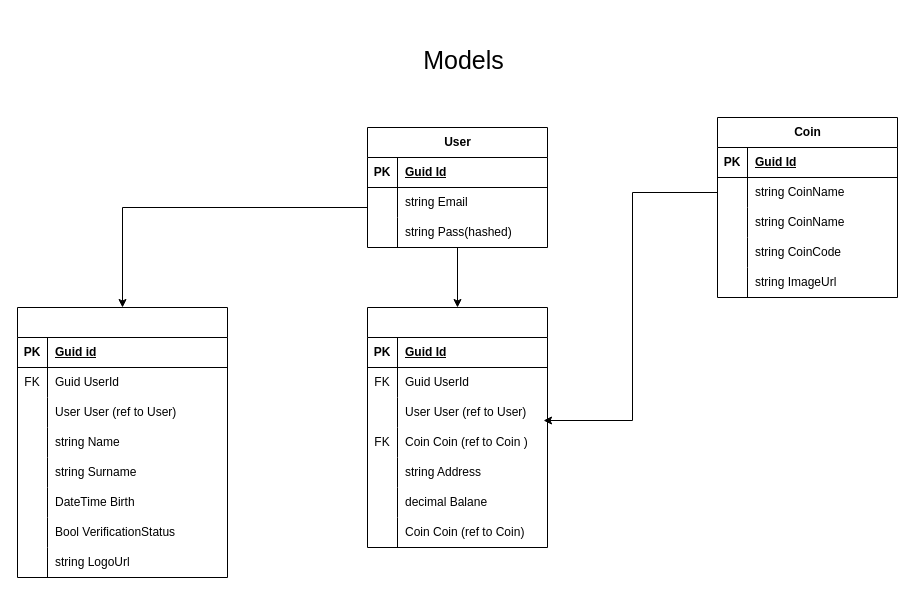
Image size: 915x595. Some labels were removed from this diagram. Here are the shapes that lost their labels. From the top down, the box of each, then its label:
(16, 306, 228, 578): UserInfo
(366, 306, 548, 548): Wallet
